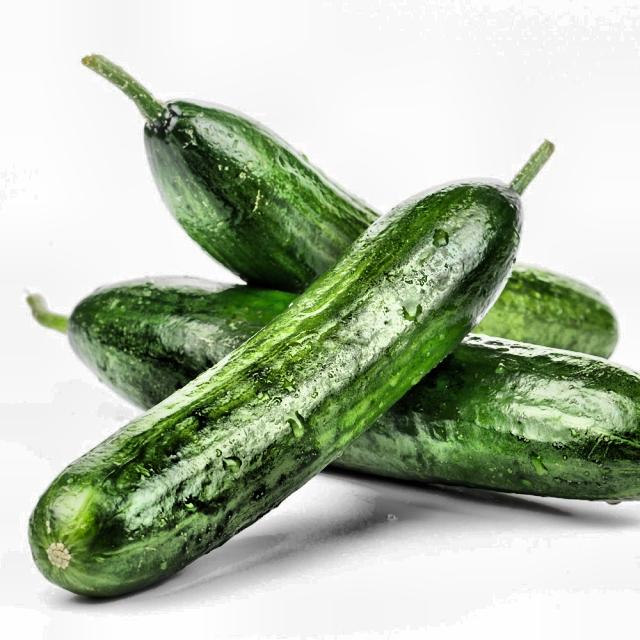cucumber: (28, 29, 618, 622)
